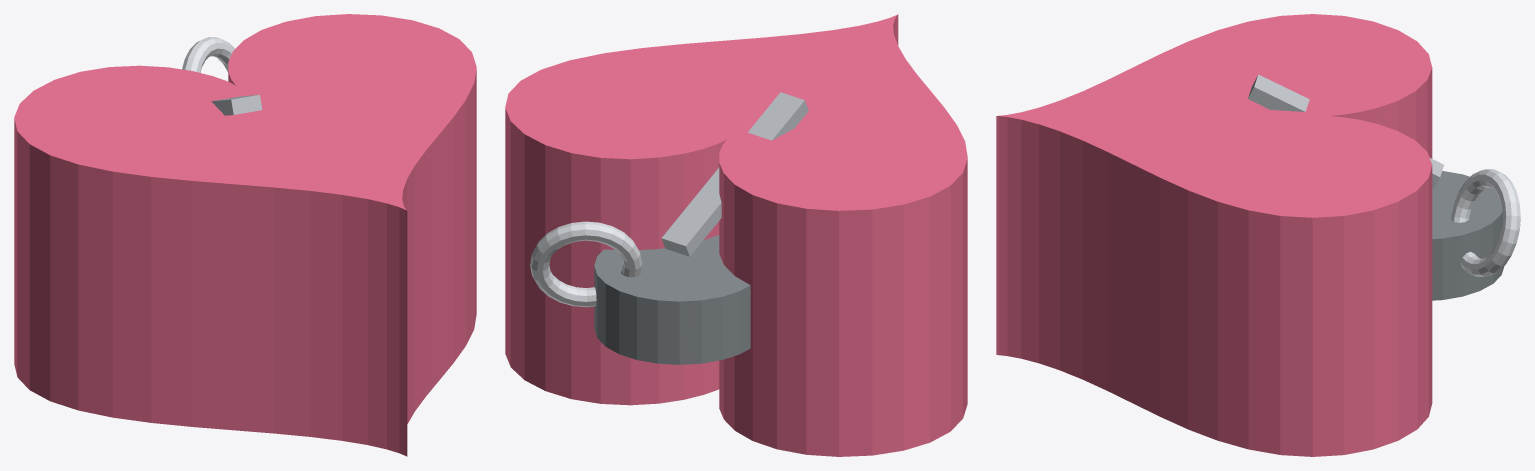
The model's file is heart_grenade.glb.
The picture shows the model from 3 angles, left to right: view 1: azimuth 30°, elevation 25°; view 2: azimuth 150°, elevation 25°; view 3: azimuth 270°, elevation 25°; orthographic projection. The views are drawn at different scales.
Visible parts, largest first — view 1: Heart, Pin, Lever; view 2: Heart, Collar, Lever, Pin; view 3: Heart, Collar, Pin, Lever.
Part boxes in pixels (x1,y1,x2,y2): Heart: (14, 14, 476, 456); Pin: (182, 37, 234, 72); Lever: (211, 94, 262, 115); Heart: (505, 14, 967, 456); Collar: (594, 235, 750, 364); Lever: (661, 92, 808, 256); Pin: (530, 221, 642, 307); Heart: (996, 14, 1432, 456); Collar: (1432, 171, 1504, 300); Pin: (1451, 169, 1520, 276); Lever: (1248, 74, 1443, 189).
Bounding box in the file's own units: 0.3118 × 0.1862 × 0.3391.
